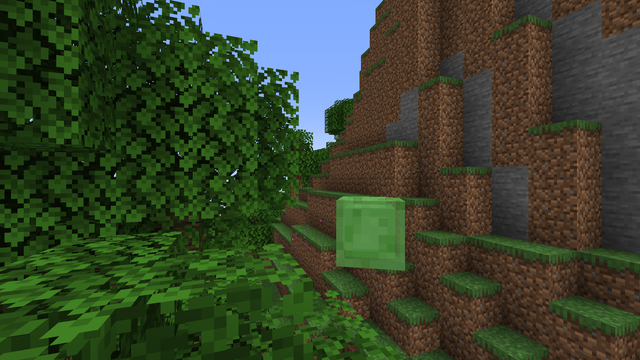slimes: (329, 193, 416, 271)
